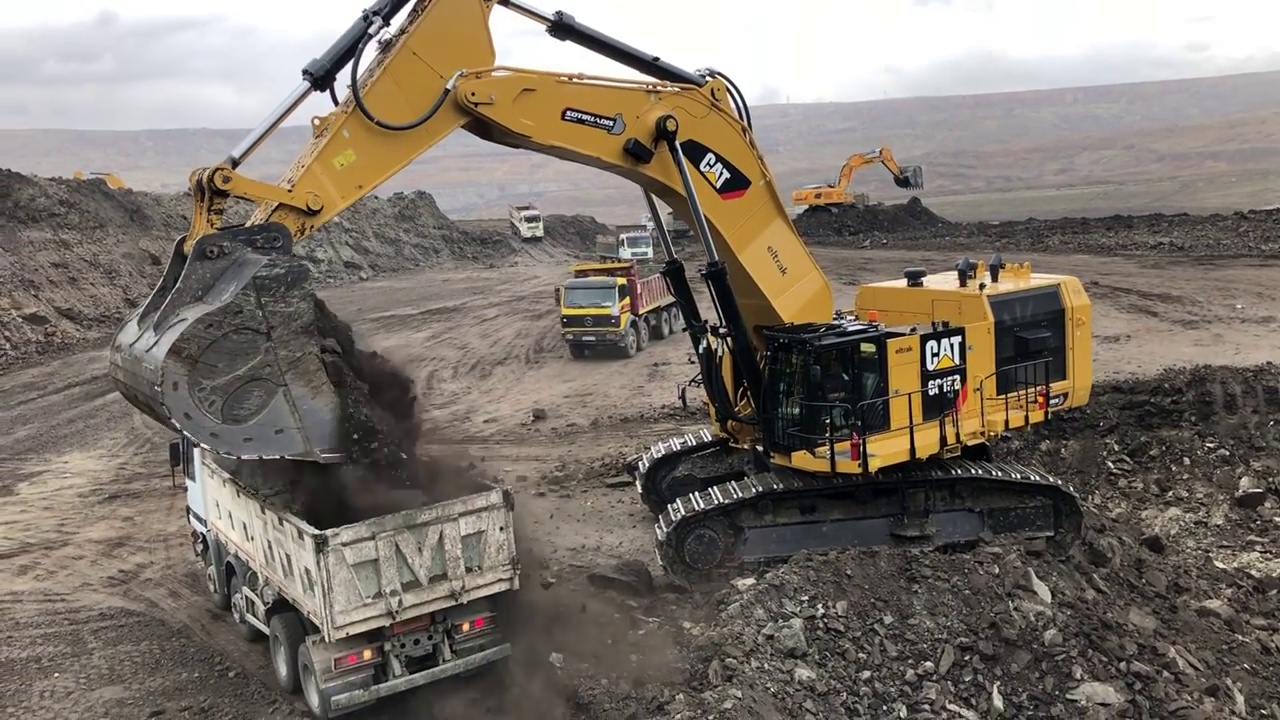excavator: (108, 1, 1096, 590), (792, 143, 927, 213)
truck: (167, 418, 523, 720), (554, 262, 682, 355), (586, 224, 653, 262), (506, 200, 549, 238)
